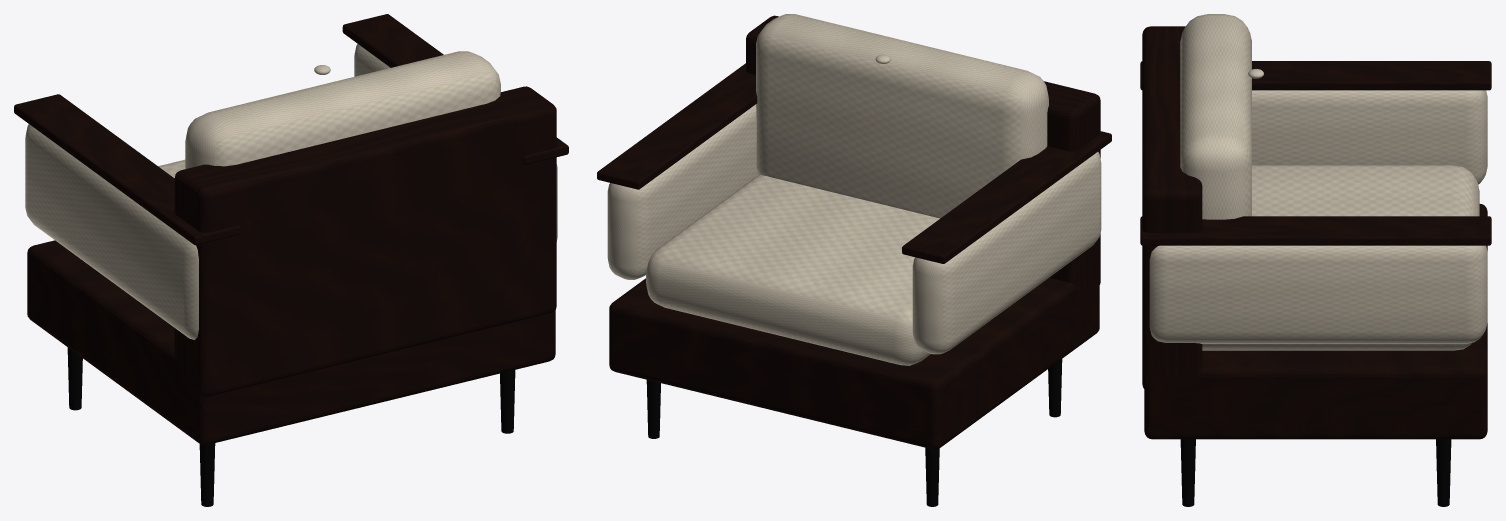
File: razoredge-modern-armchair.glb
The picture shows the model from 3 angles, left to right: view 1: azimuth 30°, elevation 25°; view 2: azimuth 150°, elevation 25°; view 3: azimuth 270°, elevation 25°; orthographic projection. The views are drawn at different scales.
Visible parts, largest first — view 1: back, base, back_cushion, arm, arm_cap, arm_cap.001, leg.001, leg.003, leg, arm.001; view 2: back_cushion, base, seat, arm, arm.001, arm_cap, arm_cap.001, back, leg, leg.002, leg.001; view 3: arm.001, base, arm, seat, back_cushion, back, arm_cap.001, arm_cap, leg.002, leg.003.
Boxes of the visible parts, x1,y1,x2,y2 form: back: (174,86,556,396); base: (27,240,555,445); back_cushion: (185,51,500,168); arm: (25,124,198,339); arm_cap: (14,94,240,245); arm_cap.001: (342,14,568,164); leg.001: (199,443,215,506); leg.003: (500,370,515,433); leg: (67,347,82,410); arm.001: (354,44,557,241); back_cushion: (756,14,1048,218); base: (609,277,1099,449); seat: (646,175,939,365); arm: (912,152,1101,354); arm.001: (607,104,758,279); arm_cap: (902,131,1111,263); arm_cap.001: (597,63,757,189); back: (746,15,1100,297); leg: (925,447,939,506); leg.002: (646,380,660,438); leg.001: (1048,359,1062,417); arm.001: (1149,245,1487,343); base: (1144,204,1487,439); arm: (1252,90,1487,184); seat: (1202,165,1479,350); back_cushion: (1180,14,1251,219); back: (1142,26,1202,390); arm_cap.001: (1140,216,1491,245); arm_cap: (1140,61,1491,90); leg.002: (1436,439,1451,506); leg.003: (1180,439,1195,506).
Size of the model in its own units: 1.05 by 1 by 0.88.
3 materials, 2 textured.
